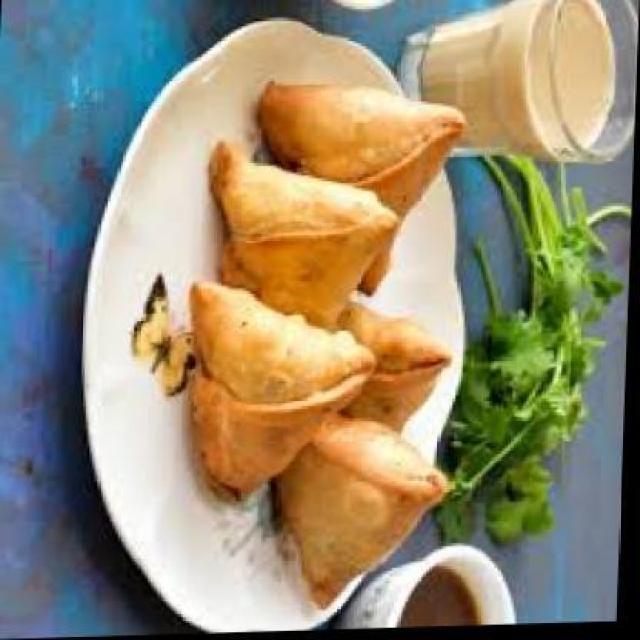samosa: (252, 78, 465, 300), (184, 282, 378, 508), (205, 138, 400, 337), (271, 412, 449, 614), (317, 298, 455, 437)
